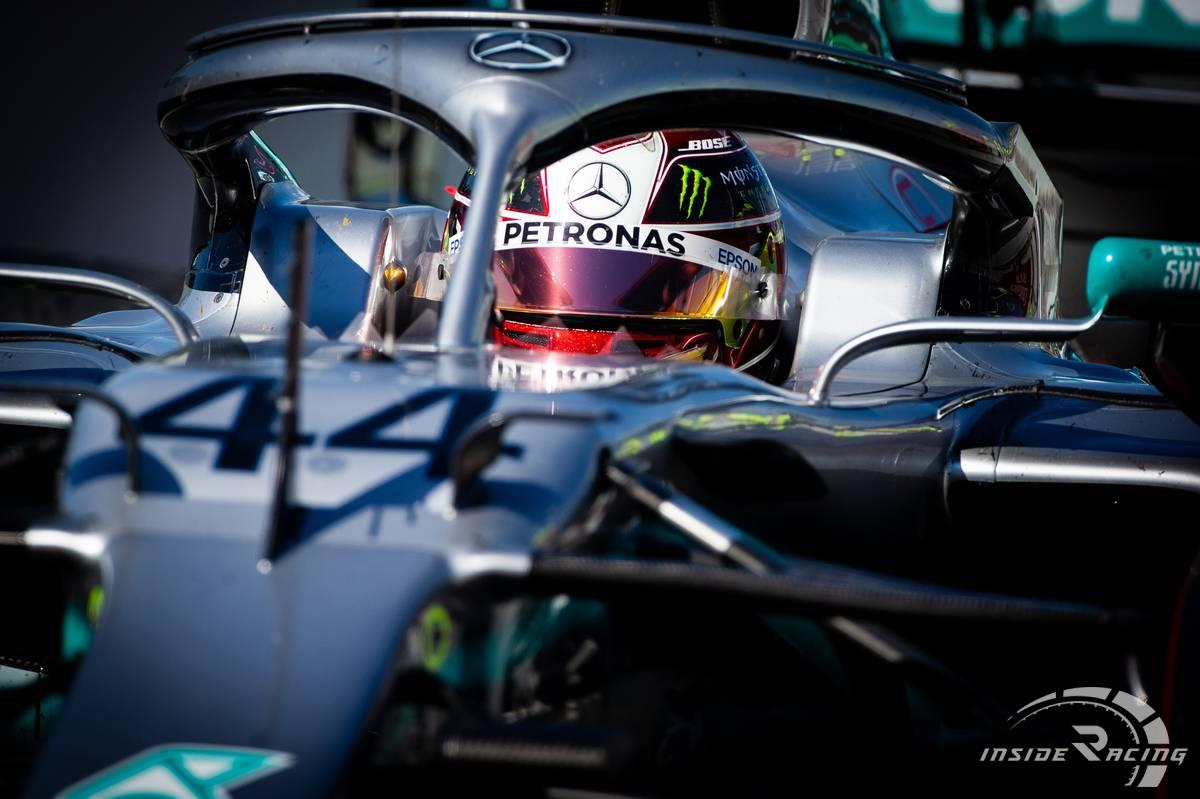f1_car: (3, 4, 1190, 796)
helmet: (422, 98, 800, 399)
